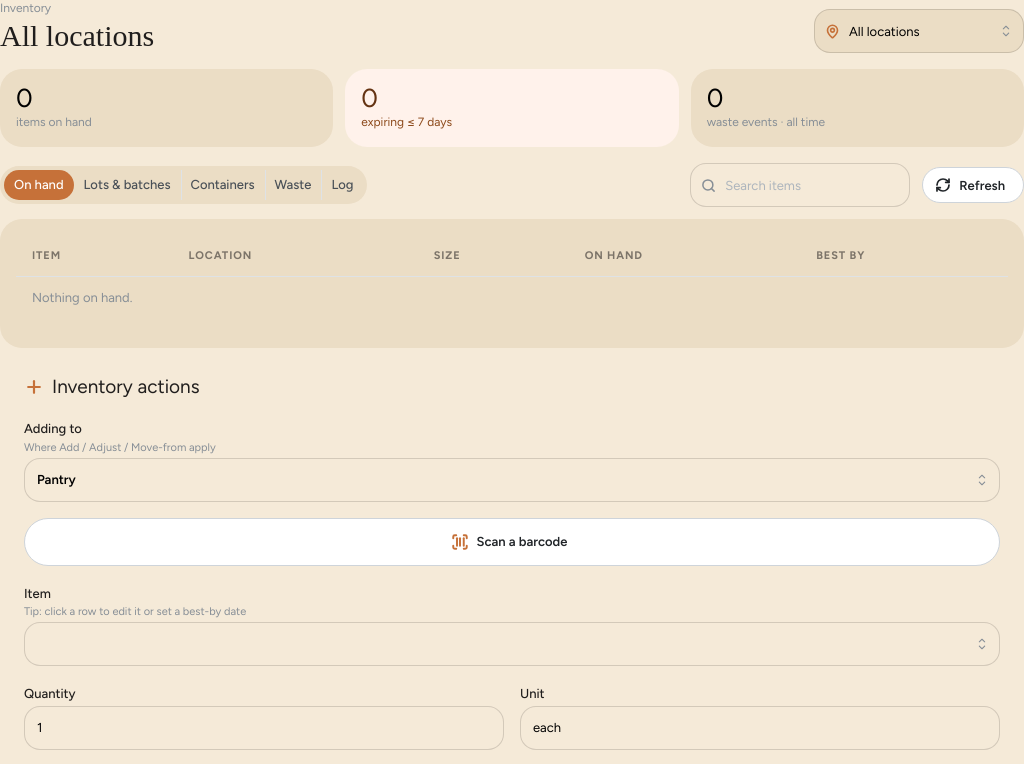
Scenario: InventoryPage - Log table › shows the server's 409 detail in the modal instead of dismissing it
Click the text "Log".
click(342, 184)  # box [331, 177, 353, 192]
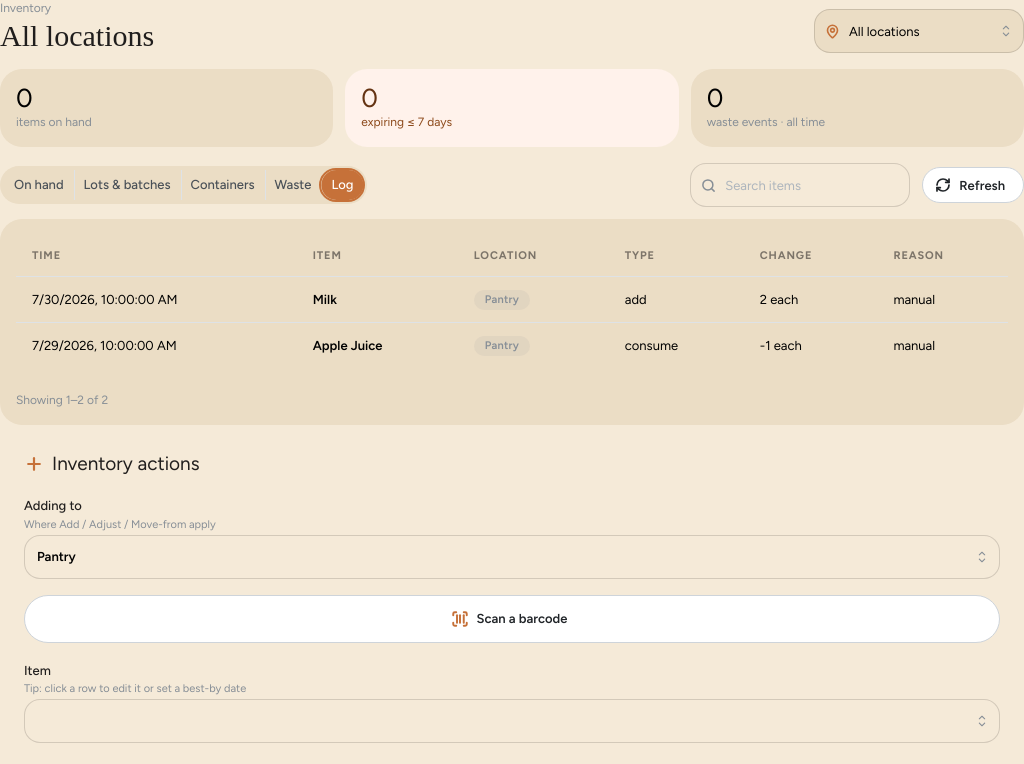
Check: the text "Milk" is shown
Click the text "Milk".
click(325, 299)  # box [297, 277, 458, 323]
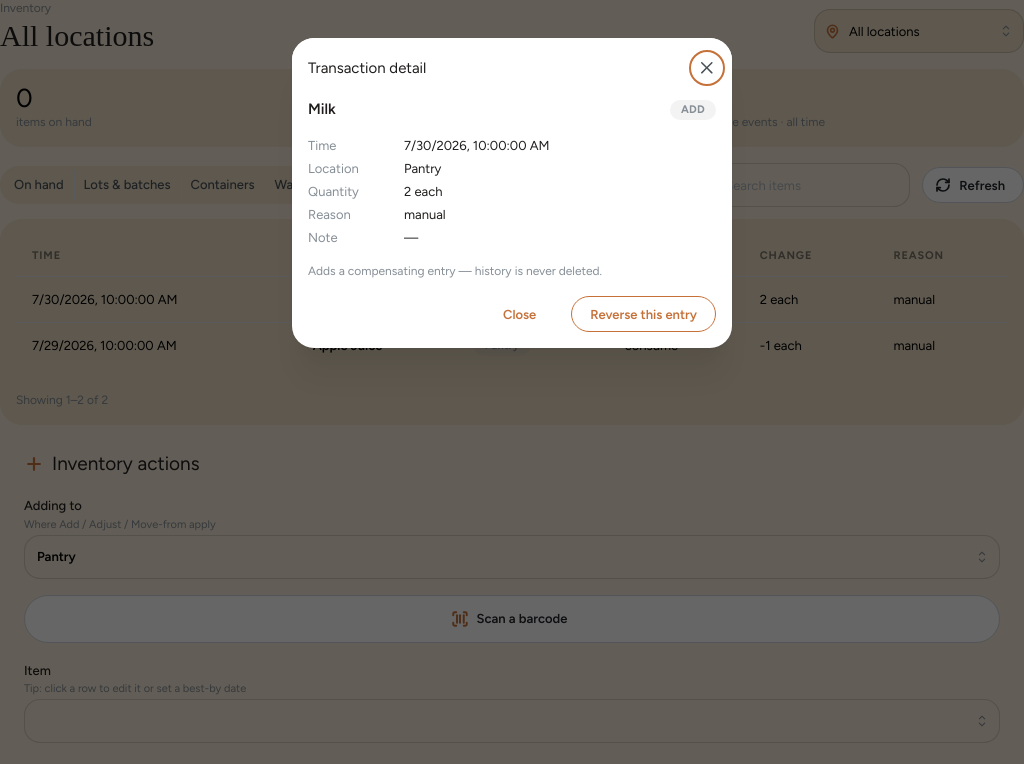
Check: the heading "Transaction detail" is shown, box [308, 61, 426, 76]
Click the button "Reverse this entry".
click(644, 315)  # box [571, 297, 716, 333]
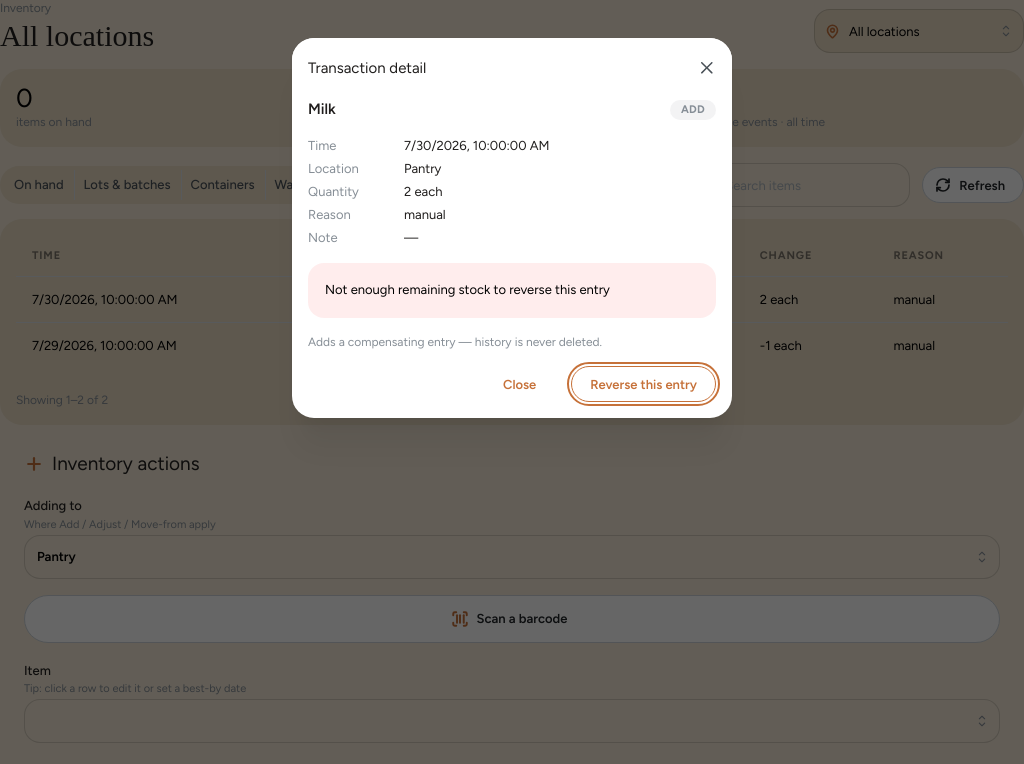
Check: the heading "Transaction detail" is shown, box [308, 61, 426, 76]
Check: the text "Not enough remaining stock to reverse this entry" is shown, box [325, 283, 610, 298]
